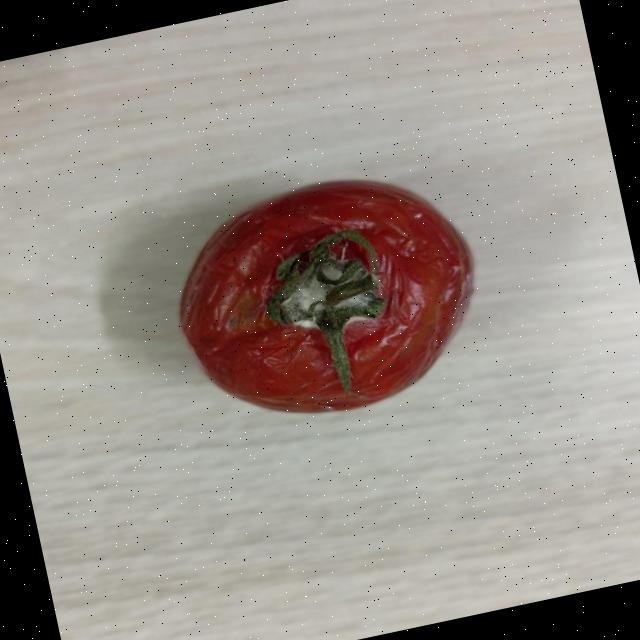Tomato: (152, 154, 505, 453)
